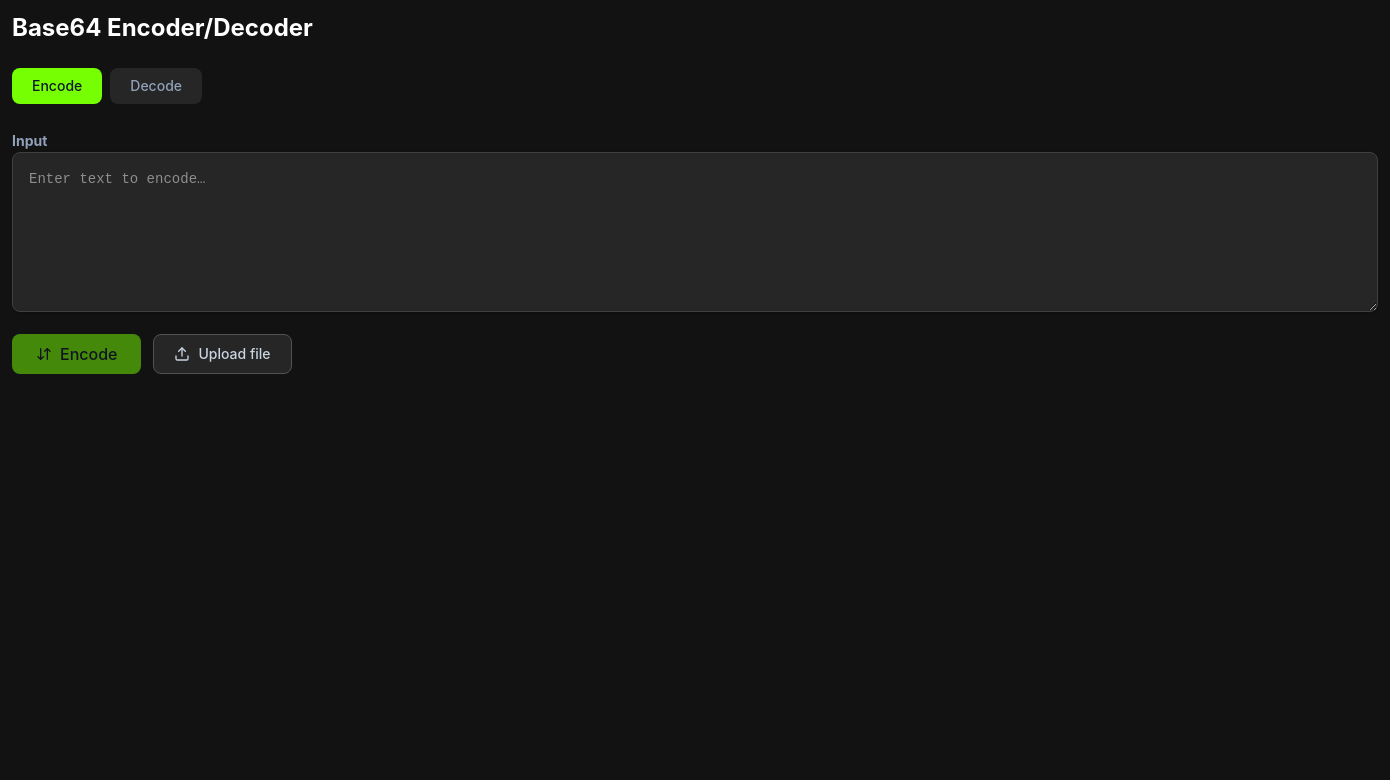
Test case: Base64Tool › handles text encoding
Type "hello" into the text box with placeholder "Enter text to encode…". click: point(695, 232)
box: [12, 152, 1378, 312]
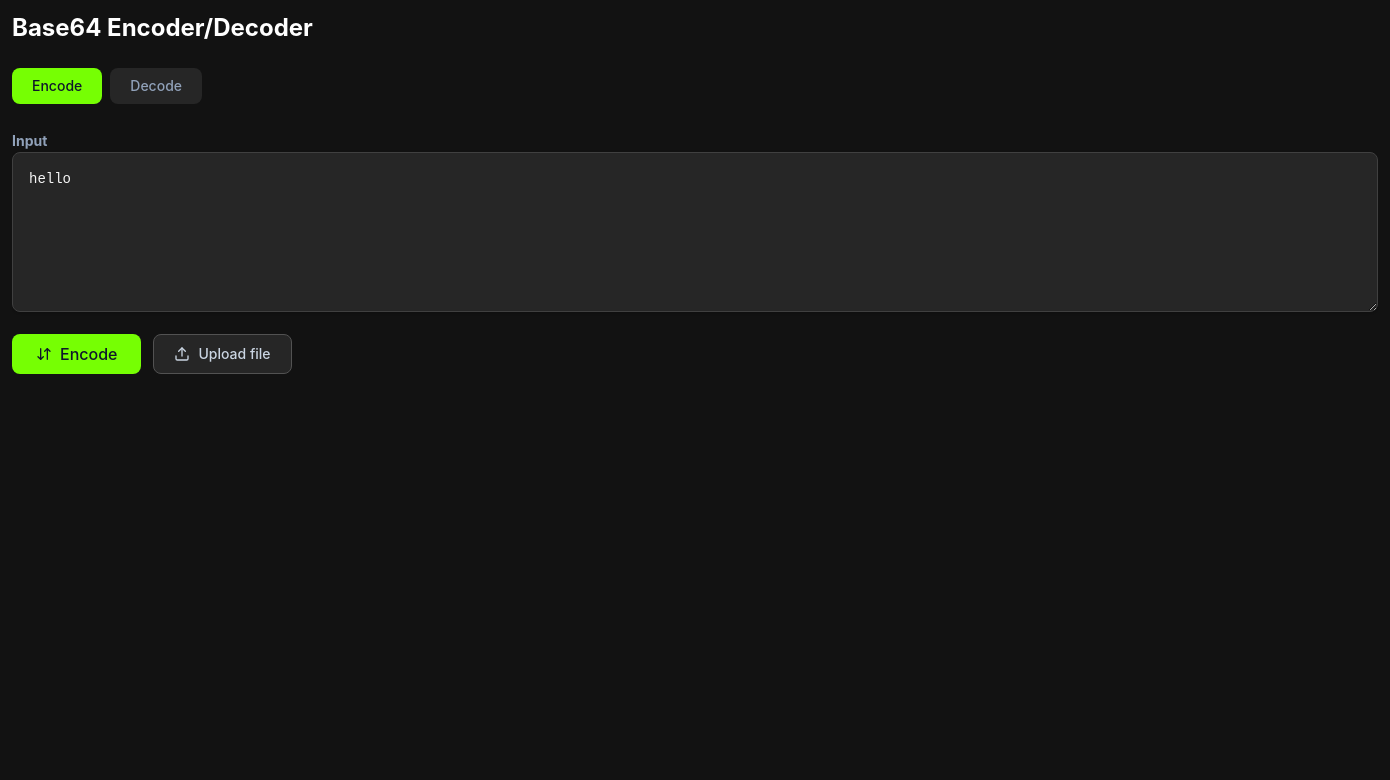
Click the button "Encode". click: point(77, 354)
box: [12, 334, 142, 374]
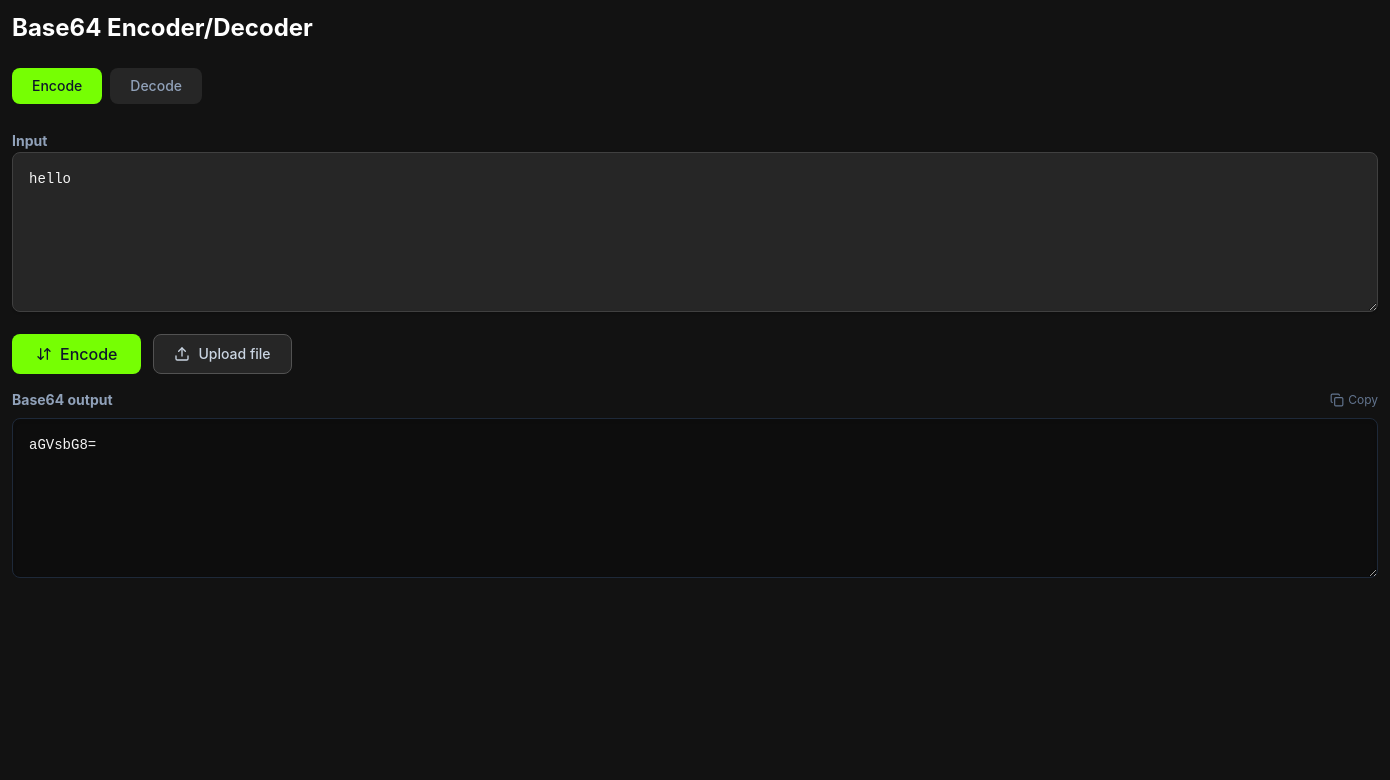
Expected: the text box showing "aGVsbG8=" below "Base64 output" is shown, [12, 418, 1378, 578]
